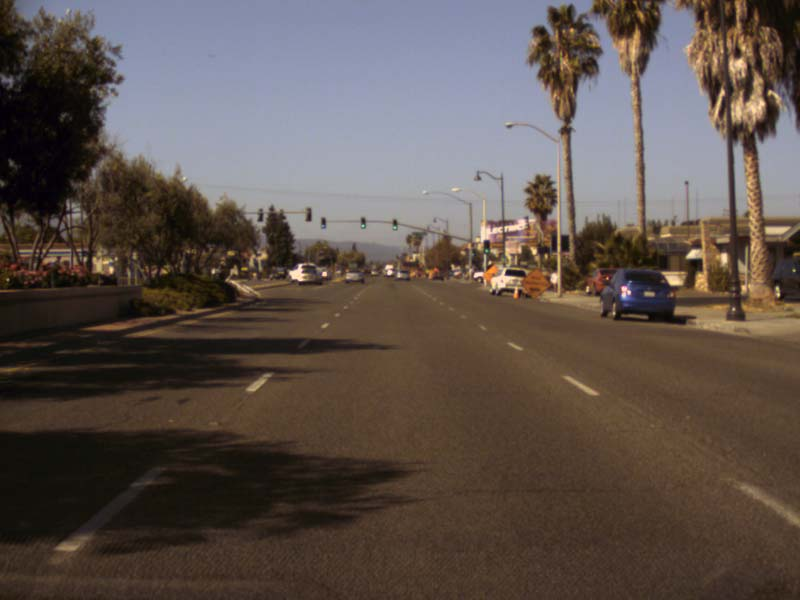Green: (483, 239, 490, 253), (391, 218, 397, 231), (320, 217, 326, 228), (360, 216, 365, 229), (471, 243, 475, 257)
